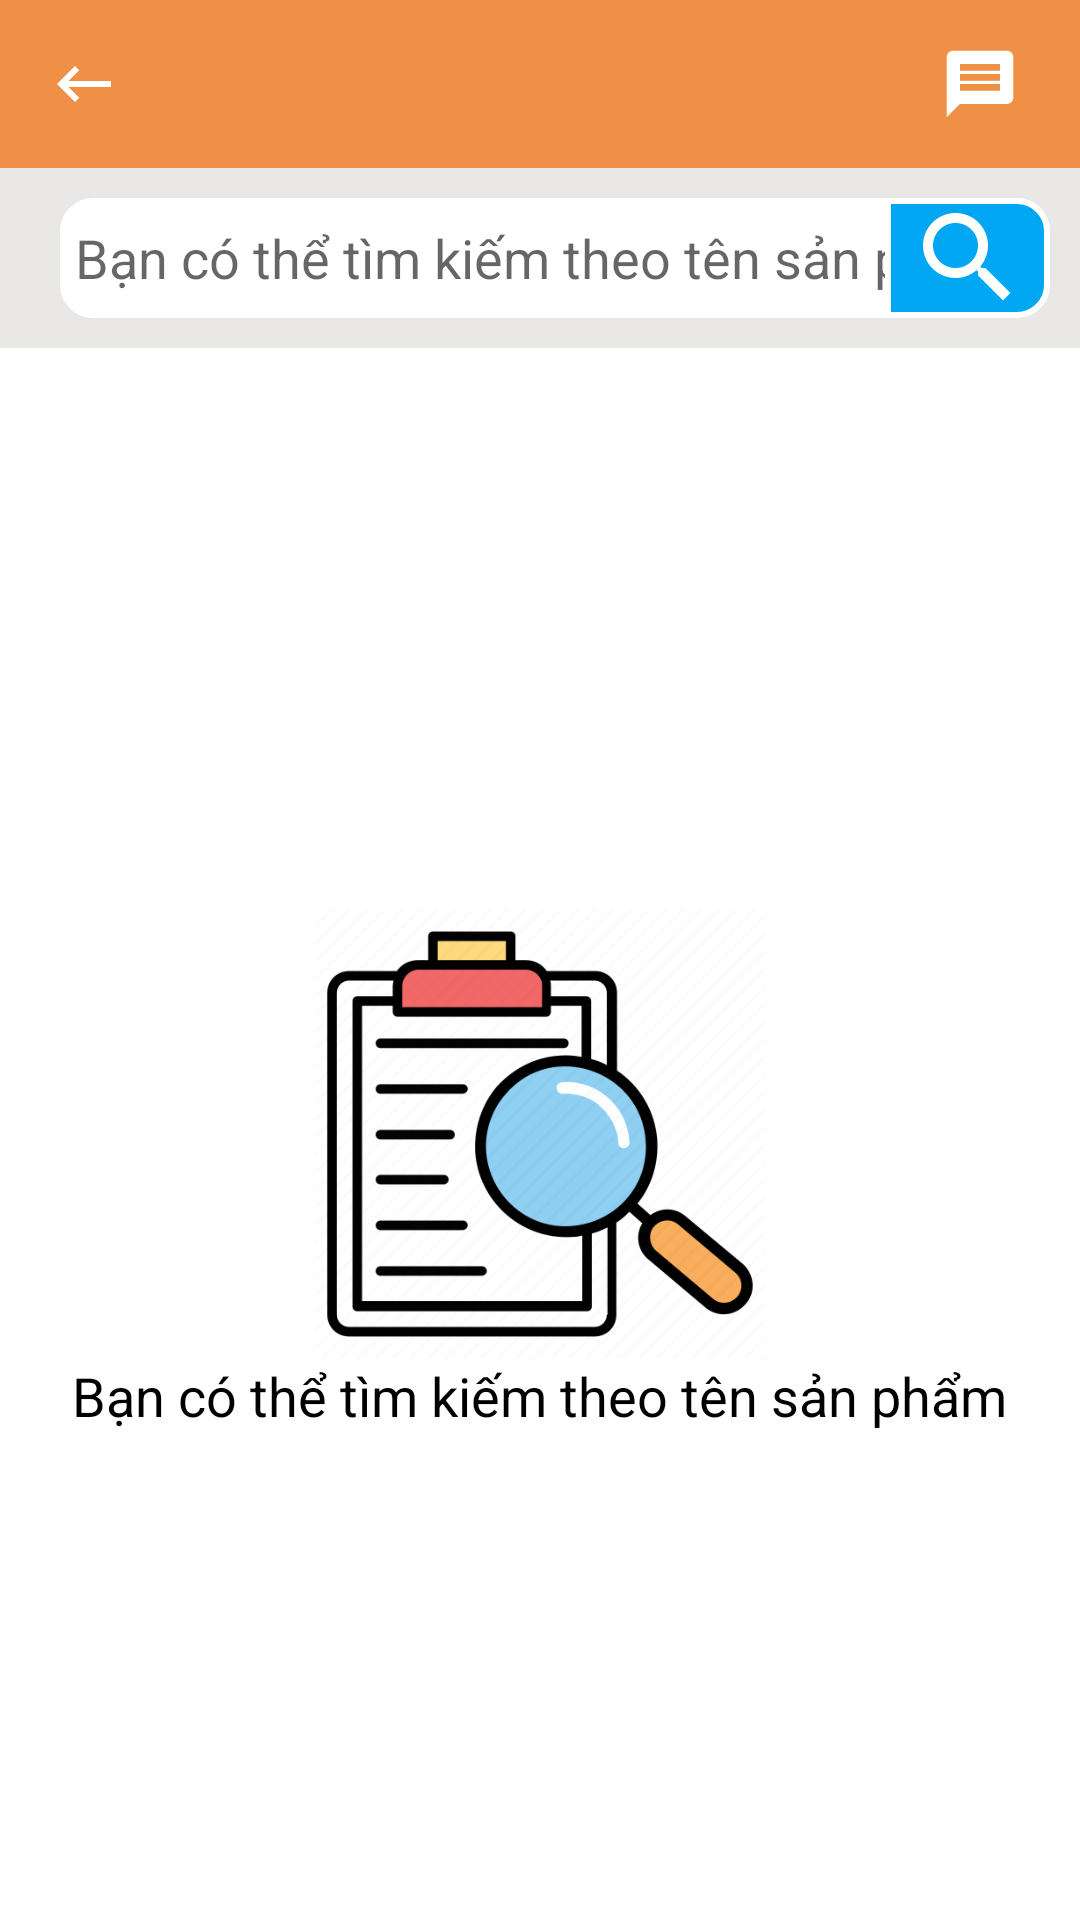

Icons on this 1080w x 1920h Android screen, each with its box as (x1, y1, x2, y2):
iconnhantin: (946, 50, 1014, 117)
search: (891, 204, 1044, 312)
